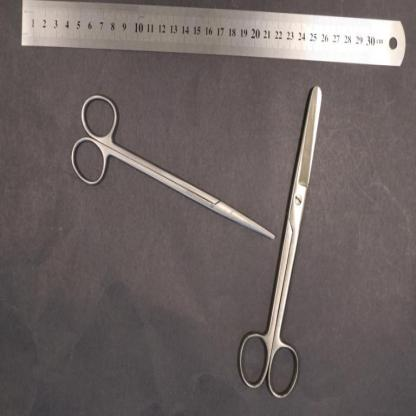7 Metzenbaum Scissors: (70, 92, 276, 240)
Dressing Scissors: (237, 84, 323, 404)
